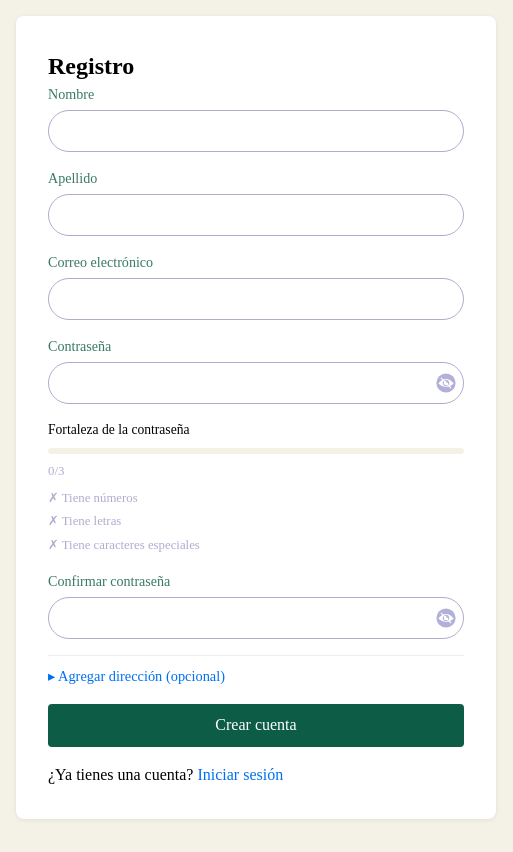
Test case: SignUpPage › shows error when passwords do not match
The image size is (513, 852).
Type "John" into the field labelled "Nombre". click: {"x": 256, "y": 131}
box: [48, 110, 464, 152]
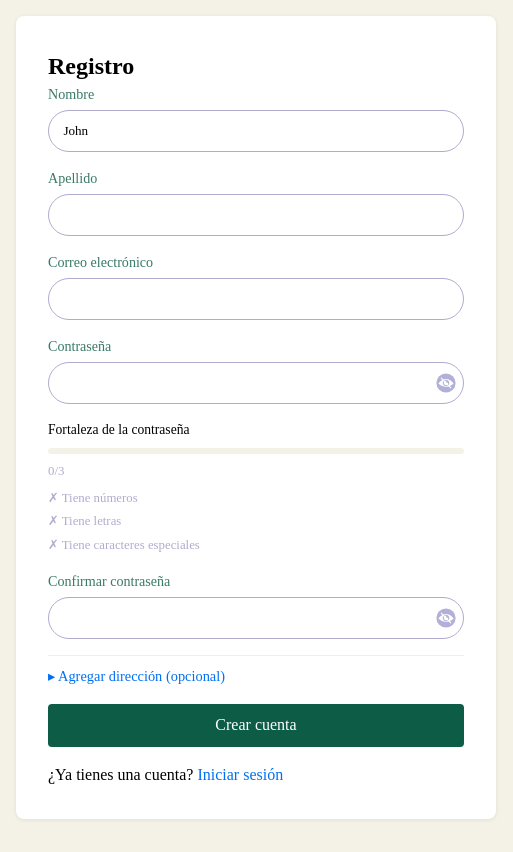
Type "Doe" into the field labelled "Apellido". click: {"x": 256, "y": 215}
box: [48, 194, 464, 236]
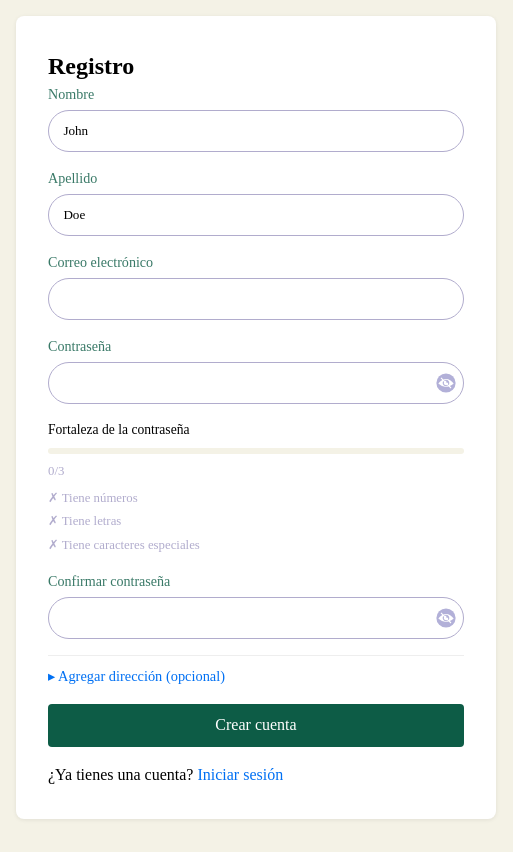
Type "john@example.com" into the field labelled "Correo electrónico". click: {"x": 256, "y": 299}
box: [48, 278, 464, 320]
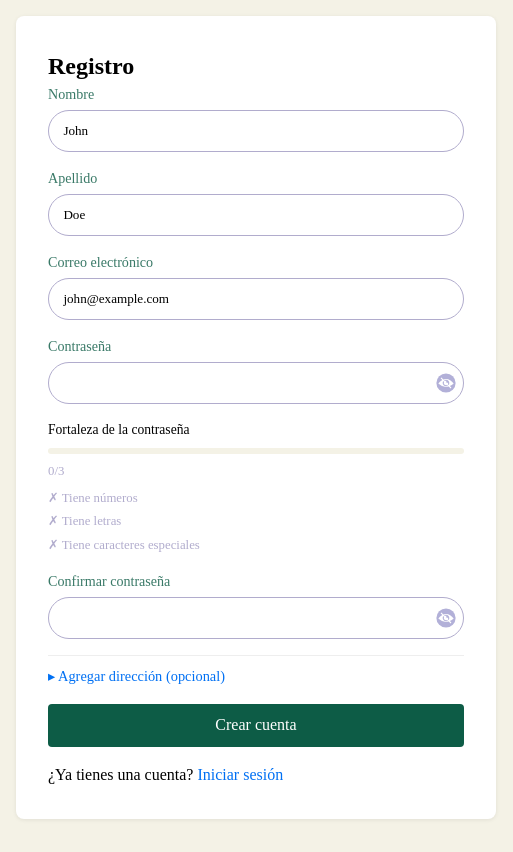
Type "Password123" into the password field labelled "Contraseña". click: {"x": 256, "y": 383}
box: [48, 362, 464, 404]
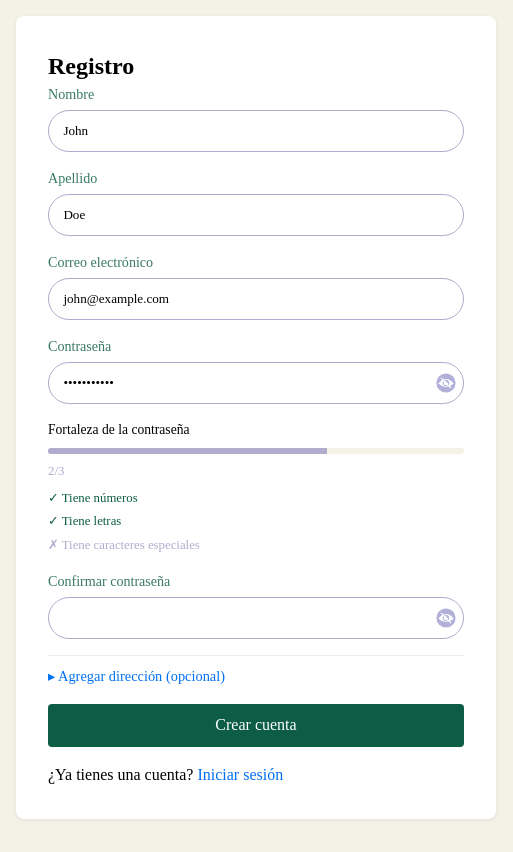
Type "Different123!" into the password field labelled "Confirmar contraseña". click: {"x": 256, "y": 618}
box: [48, 597, 464, 639]
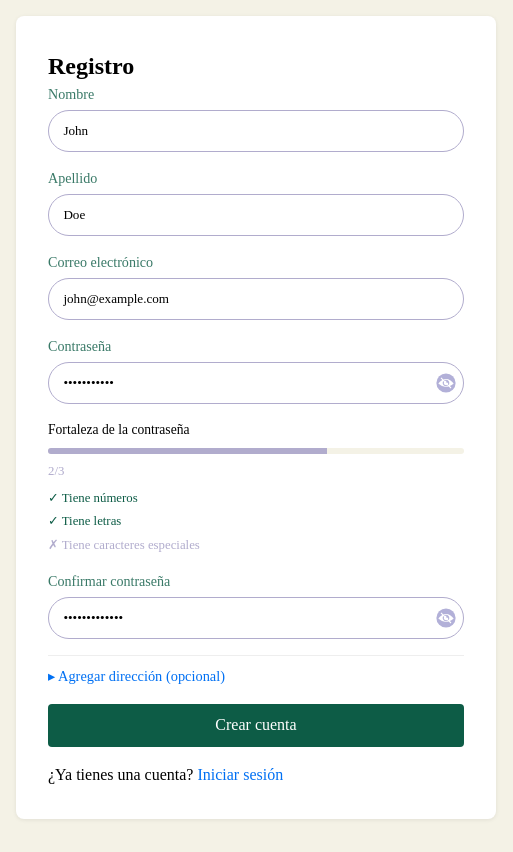
Submit the form named "Crear cuenta"
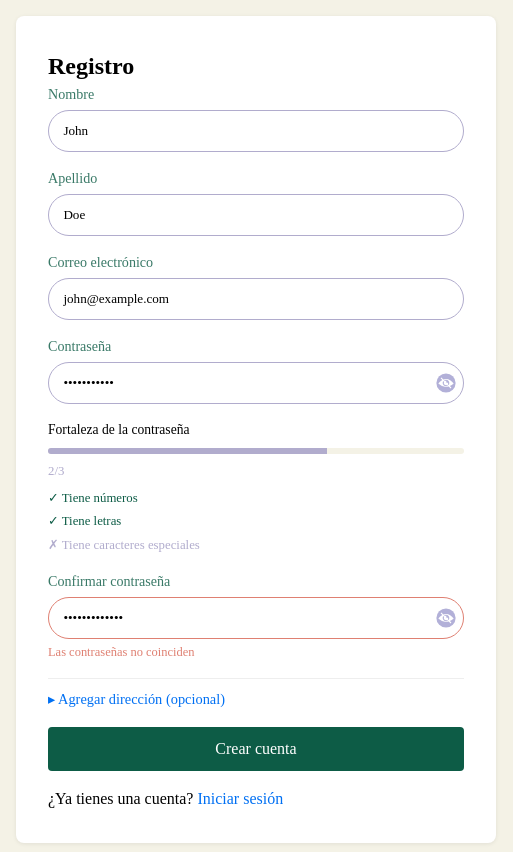
Result: the message reads "Las contraseñas no coinciden" at [48, 646, 194, 660]
